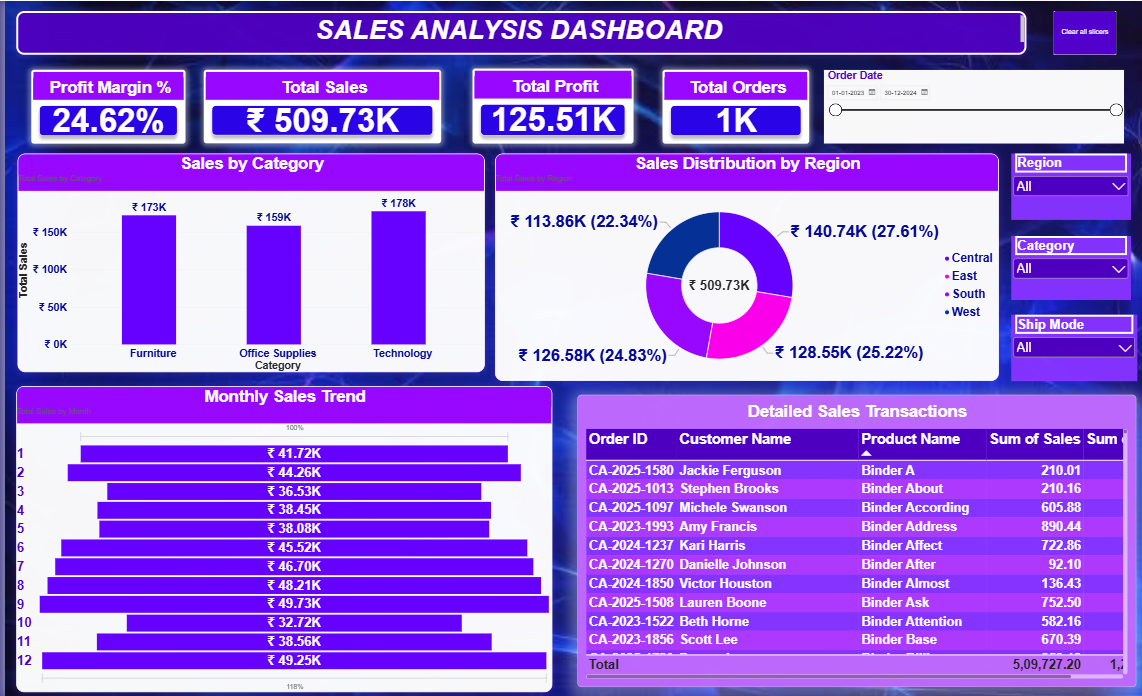

This screenshot's page, from the dashboard's own definition file:
{"tool":"powerbi","page":{"name":"Tasks: 1-6","canvas":[2300,1400],"ordinal":0},"visuals":[{"type":"clusteredColumnChart","title":"Sales by Category","fields":{"Category":["cleaned_superstore.Category"],"Y":["cleaned_superstore.Total Sales"]},"box":[25.1,306.8,940.4,440],"z":0},{"type":"cardVisual","title":"Profit Margin %","fields":{"Data":["cleaned_superstore.Profit Margin %"]},"box":[51.6,139.2,310.5,148.7],"z":1000},{"type":"cardVisual","title":"Total Sales","fields":{"Data":["cleaned_superstore.Total Sales"]},"box":[399.8,138.3,477.7,148.3],"z":2000},{"type":"cardVisual","title":"Total Profit","fields":{"Data":["cleaned_superstore.Total Profit"]},"box":[940.4,135.8,323.6,150.9],"z":3000},{"type":"cardVisual","title":"Total Orders","fields":{"Data":["cleaned_superstore.Total Orders"]},"box":[1322.3,139.2,295.2,148.7],"z":4000},{"type":"funnel","title":"Monthly Sales Trend","fields":{"Category":["cleaned_superstore.Month","cleaned_superstore.Order Date.Variation.Date Hierarchy.Year","cleaned_superstore.Order Date.Variation.Date Hierarchy.Month"],"Y":["cleaned_superstore.Total Sales"]},"box":[22.6,774.4,1078.7,616],"z":5000},{"type":"donutChart","title":"Sales Distribution by Region","fields":{"Category":["cleaned_superstore.Region"],"Y":["cleaned_superstore.Total Sales"]},"box":[985.6,306.8,1013.3,457.6],"z":6000},{"type":"textbox","box":[22.6,20.1,2031.6,88],"z":7000},{"type":"slicer","fields":{"Values":["cleaned_superstore.Region"]},"box":[2024.1,306.8,240.5,133.4],"z":8000},{"type":"slicer","fields":{"Values":["cleaned_superstore.Category"]},"box":[2024.1,472.7,240.5,129],"z":9000},{"type":"slicer","fields":{"Values":["cleaned_superstore.Ship Mode"]},"box":[2024.1,631.1,253.6,133.4],"z":10000},{"type":"slicer","fields":{"Values":["cleaned_superstore.Order Date"]},"box":[1647.8,139.2,604.1,148.9],"z":11000},{"type":"tableEx","title":"Detailed Sales Transactions","fields":{"Values":["cleaned_superstore.Order ID","cleaned_superstore.Customer Name","cleaned_superstore.Product Name","Sum(cleaned_superstore.Sales)","Sum(cleaned_superstore.Profit)"]},"box":[1151.6,792,1123.9,588.4],"z":12000},{"type":"actionButton","box":[2109.6,20.1,125.7,88],"z":13000}]}

Visuals, with their boxes in screenshot pixels (x1, y1, x2, y2), scaled from the page's 2300x1400 canvas onto the 1142x696 screenshot:
"Sales by Category" clusteredColumnChart: (left=12, top=153, right=479, bottom=371)
"Profit Margin %" cardVisual: (left=26, top=69, right=180, bottom=143)
"Total Sales" cardVisual: (left=199, top=69, right=436, bottom=142)
"Total Profit" cardVisual: (left=467, top=68, right=628, bottom=143)
"Total Orders" cardVisual: (left=657, top=69, right=803, bottom=143)
"Monthly Sales Trend" funnel: (left=11, top=385, right=547, bottom=691)
"Sales Distribution by Region" donutChart: (left=489, top=153, right=992, bottom=380)
textbox: (left=11, top=10, right=1020, bottom=54)
slicer - cleaned_superstore.Region: (left=1005, top=153, right=1124, bottom=219)
slicer - cleaned_superstore.Category: (left=1005, top=235, right=1124, bottom=299)
slicer - cleaned_superstore.Ship Mode: (left=1005, top=314, right=1131, bottom=380)
slicer - cleaned_superstore.Order Date: (left=818, top=69, right=1118, bottom=143)
"Detailed Sales Transactions" tableEx: (left=572, top=394, right=1130, bottom=686)
actionButton: (left=1047, top=10, right=1110, bottom=54)
